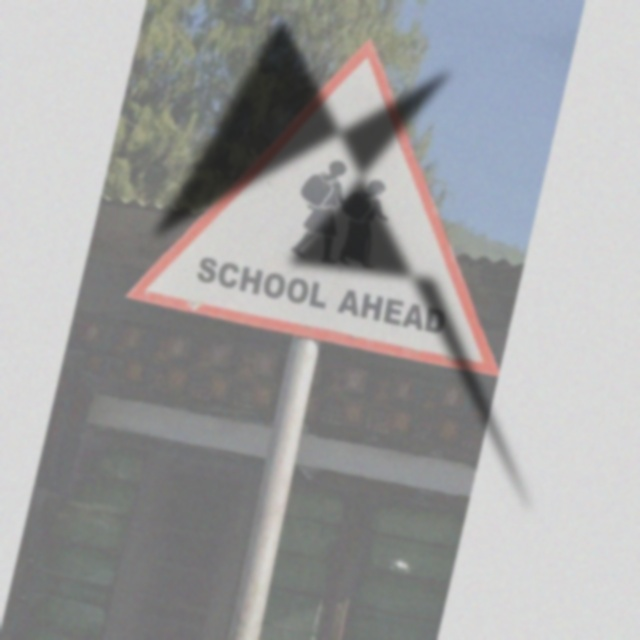School_Ahead: (135, 12, 543, 389)
